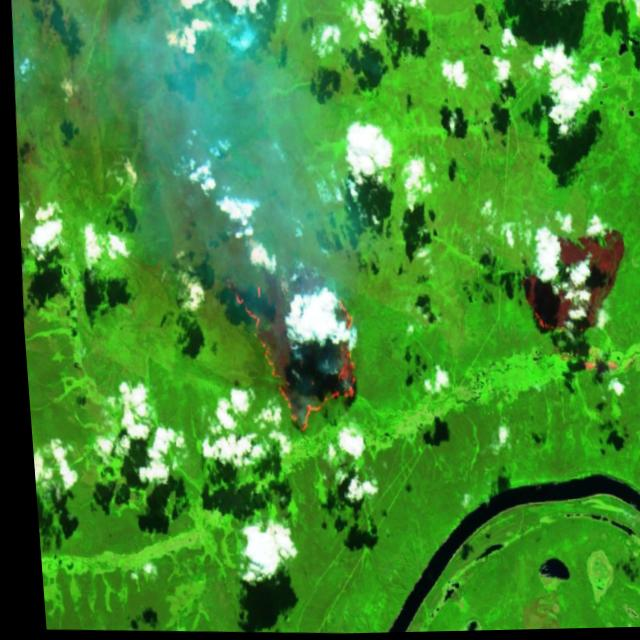fire: (223, 286, 358, 440), (521, 308, 585, 345)
